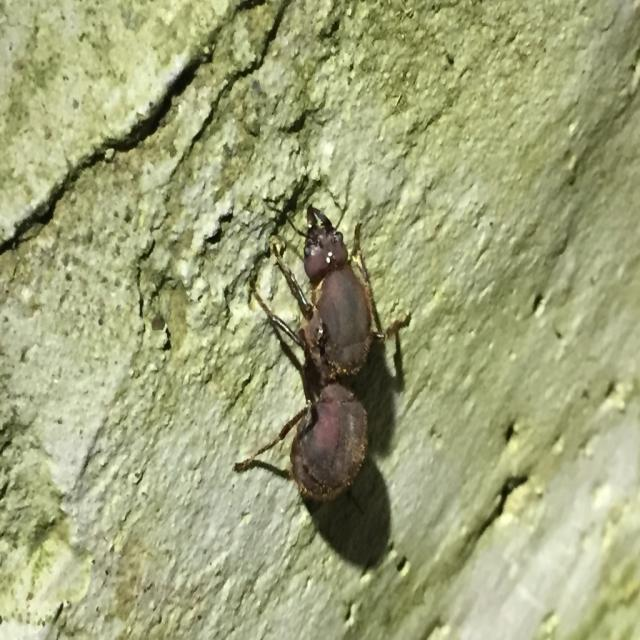Alive-Female-Dealate: (235, 160, 412, 503)
